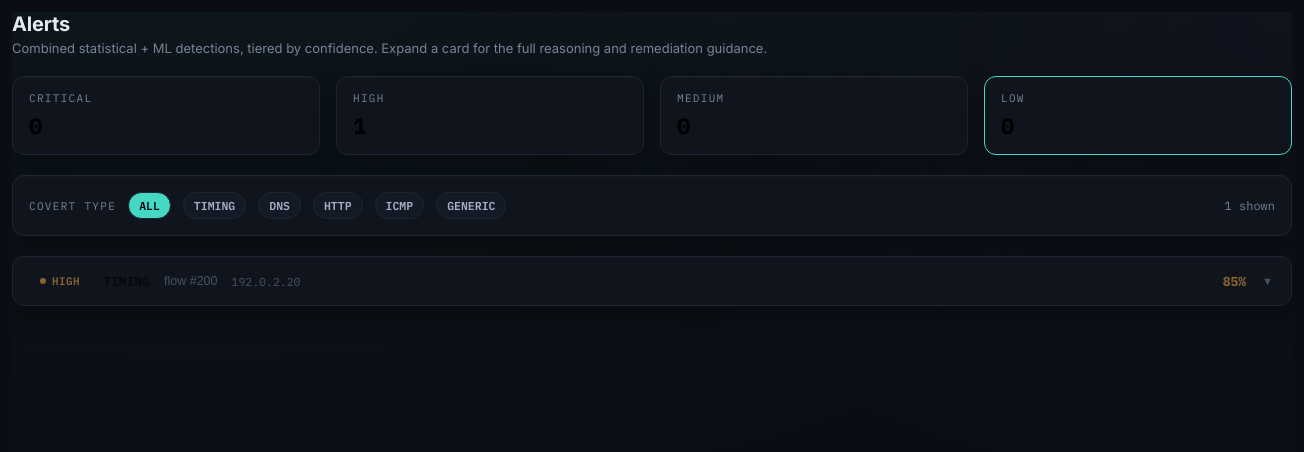
Test: Alerts › keeps alerts acknowledged by the backend marked after rendering
Click the button "HIGH TIMING flow #200 192.0.2.20 85% ▼" at (127, 281), box [13,257,1291,305]
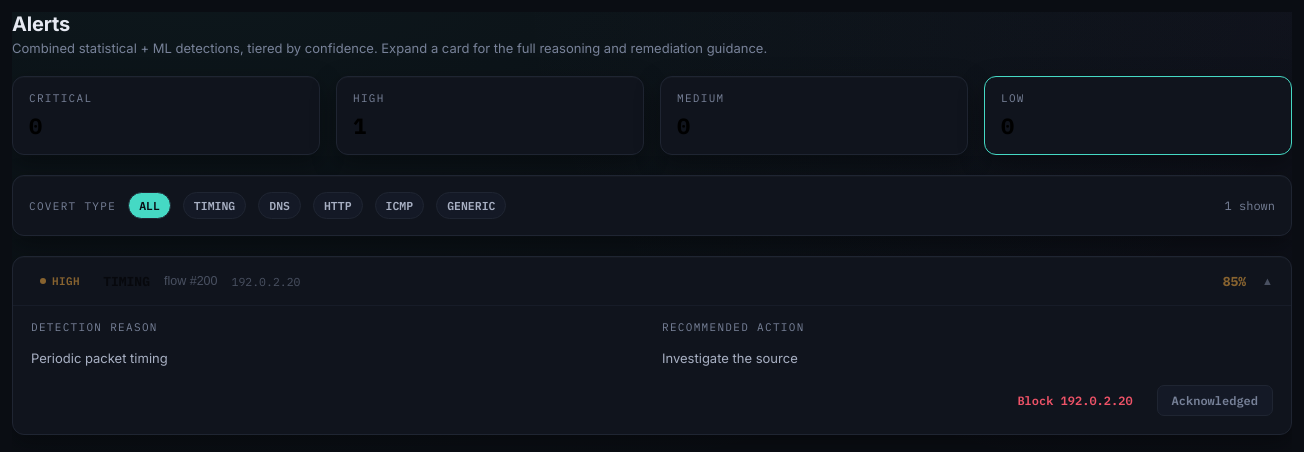
Expected: the button "Acknowledged" is disabled, [1157,385,1273,416]
